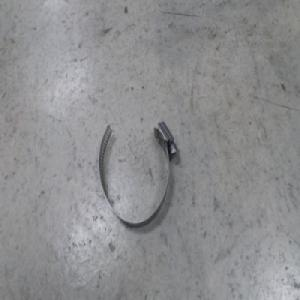AdjustableClamp: (96, 119, 177, 229)
